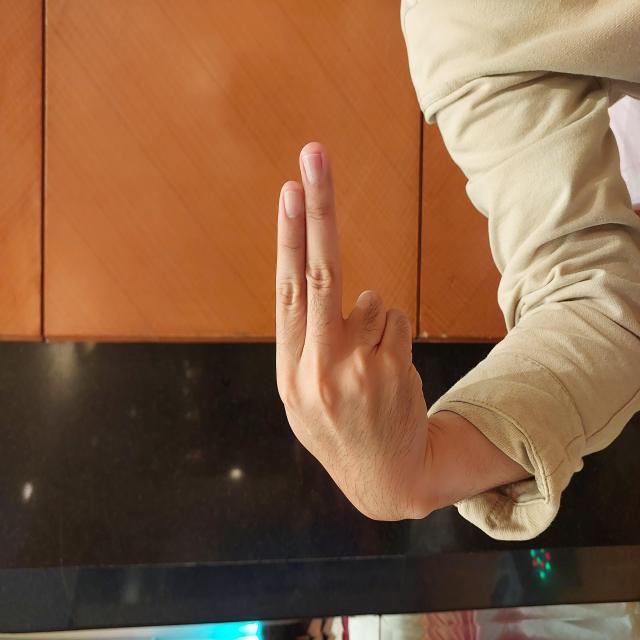H: (116, 274, 501, 429)
